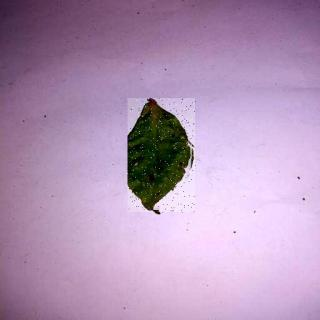Bird Eye Spot: (129, 99, 197, 214)
